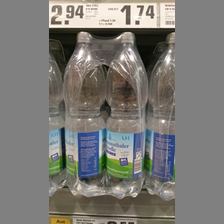water: (105, 33, 147, 201), (64, 31, 106, 195), (146, 31, 174, 201)
